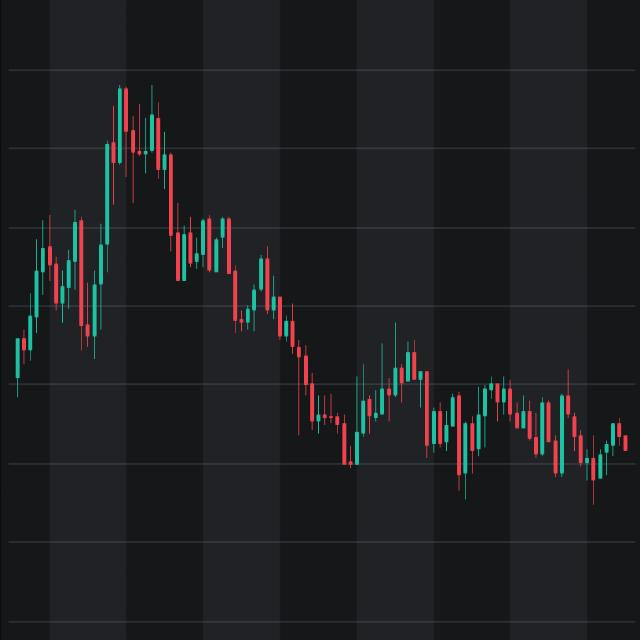Falling-Wedge: (71, 6, 455, 609)
